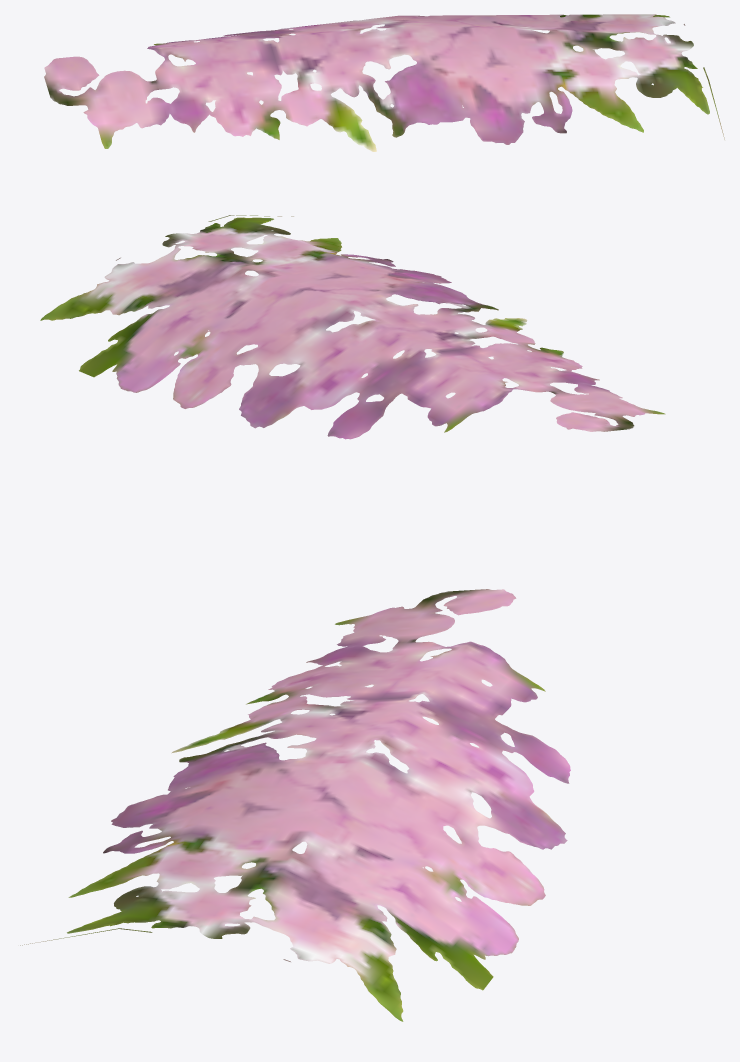
Rendered from liemo_plant_10 (36).fbx.
The picture shows the model from 3 angles, top to bottom: view 1: azimuth 30°, elevation 25°; view 2: azimuth 150°, elevation 25°; view 3: azimuth 270°, elevation 25°; orthographic projection. The views are drawn at different scales.
Parts seen in each view (by area): view 1: liemo_plant_10 (36); view 2: liemo_plant_10 (36); view 3: liemo_plant_10 (36).
Boxes of the visible parts, <box> form: liemo_plant_10 (36): <box>44,14,724,151</box>; liemo_plant_10 (36): <box>40,215,665,439</box>; liemo_plant_10 (36): <box>20,589,570,1021</box>.
Size of the model in its own units: 4.17 by 0.5371 by 3.19.
